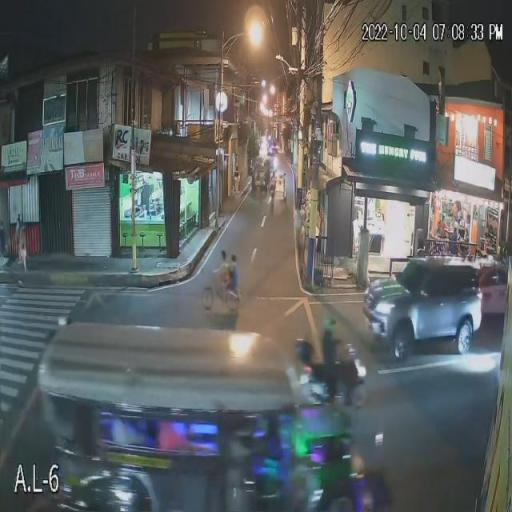helmet: (322, 316, 340, 335)
motorcycle: (296, 359, 372, 411)
rider: (319, 334, 339, 406)
